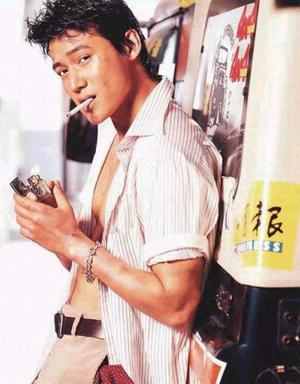person: (14, 2, 223, 384)
